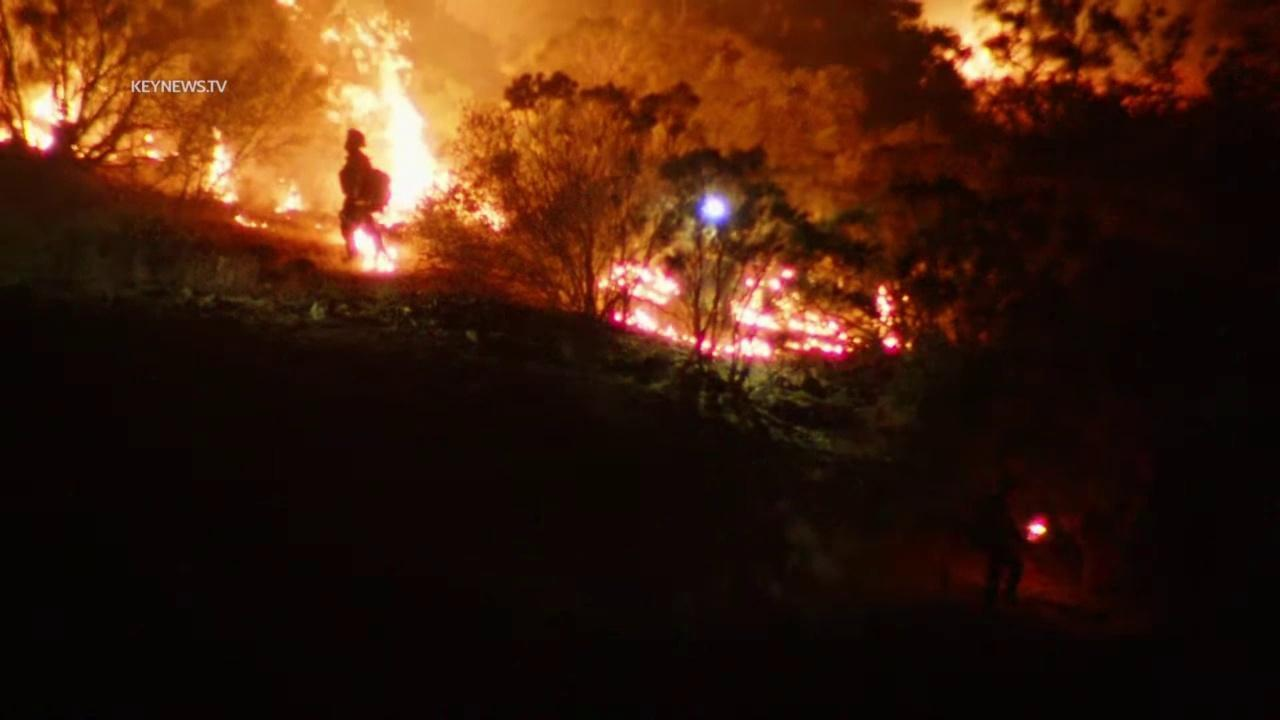fire: (319, 12, 509, 235), (592, 260, 850, 356), (0, 55, 91, 153), (938, 20, 1017, 87), (204, 124, 244, 204), (351, 225, 398, 278), (269, 176, 312, 218), (1016, 513, 1053, 546), (874, 281, 898, 325), (876, 332, 906, 358), (140, 129, 162, 159), (231, 211, 269, 228), (270, 0, 301, 11)
smoke: (0, 0, 875, 241)
